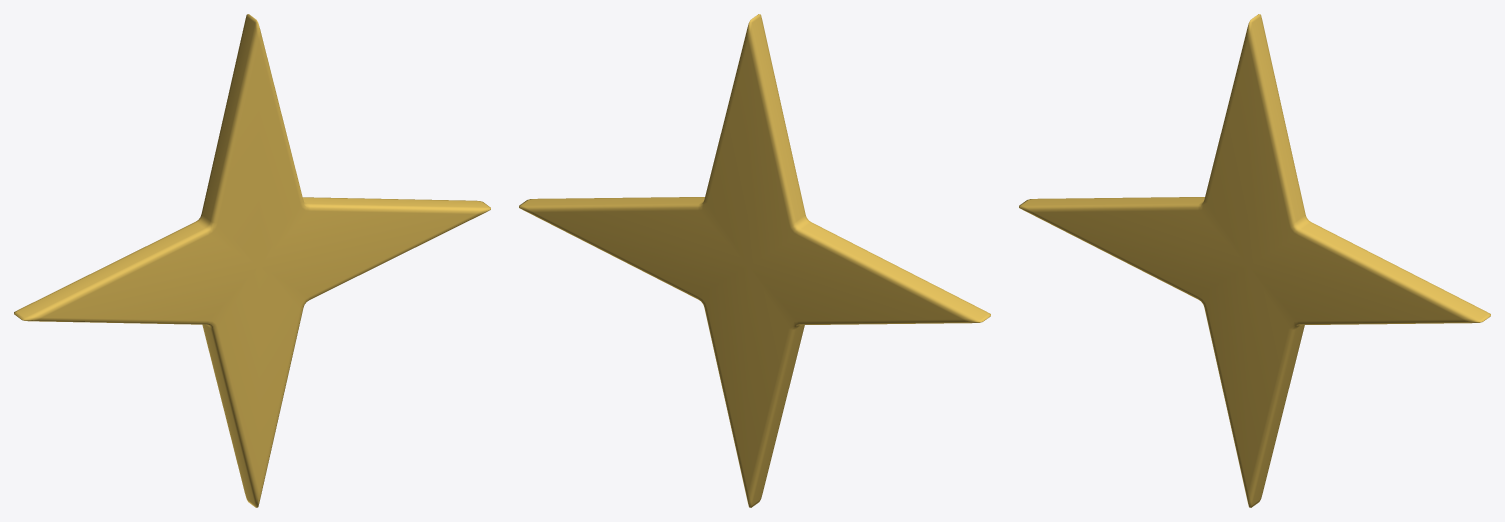
The model's file is Stern.fbx.
3 renders of one model, left to right at view 1: azimuth 30°, elevation 25°; view 2: azimuth 150°, elevation 25°; view 3: azimuth 330°, elevation 25°, orthographic.
Visible parts, largest first — view 1: Stern.01; view 2: Stern.01; view 3: Stern.01.
Part boxes in pixels (bbox=[...]): Stern.01: bbox=[14, 14, 490, 507]; Stern.01: bbox=[519, 14, 990, 507]; Stern.01: bbox=[1019, 14, 1490, 507].
Bounding box in the file's own units: 96.47 × 96.44 × 5.67.
